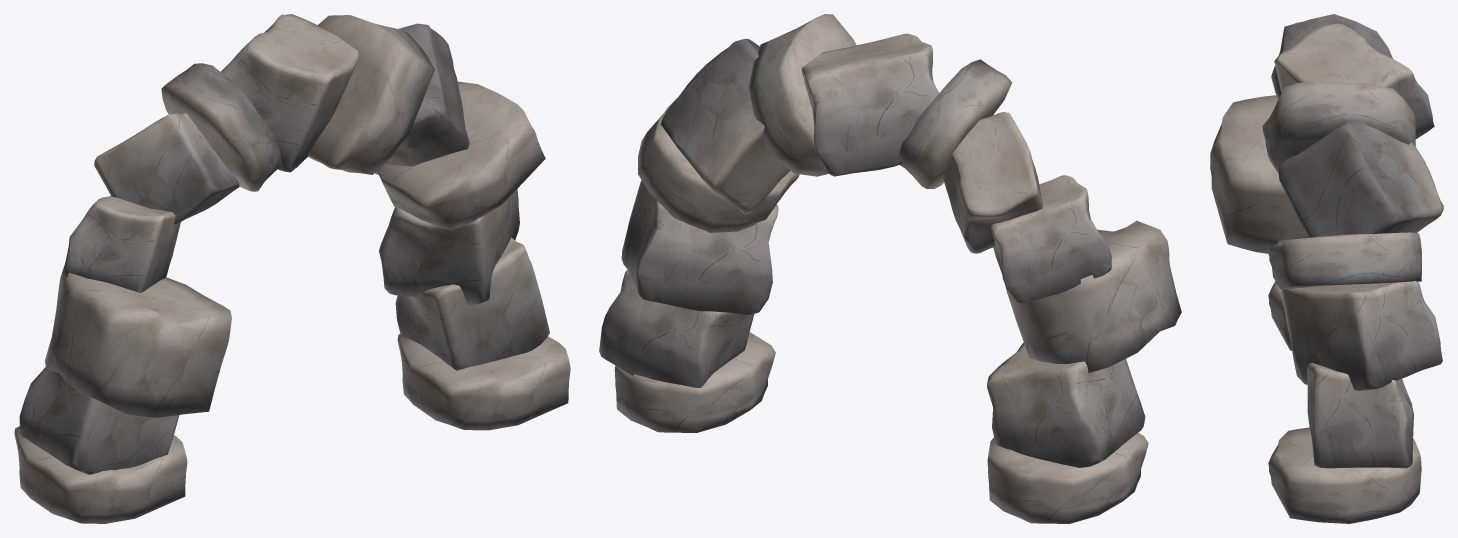
Rendered from Rock Gate.fbx.
3 renders of one model, left to right at view 1: azimuth 30°, elevation 25°; view 2: azimuth 150°, elevation 25°; view 3: azimuth 270°, elevation 25°, orthographic. The views are drawn at different scales.
Parts seen in each view (by area): view 1: combined; view 2: combined; view 3: combined.
Boxes of the visible parts, left/top/right/bottom form: combined: left=14, top=14, right=570, bottom=523; combined: left=599, top=14, right=1181, bottom=523; combined: left=1210, top=14, right=1443, bottom=523.
Size of the model in its own units: 768 by 580 by 332.
